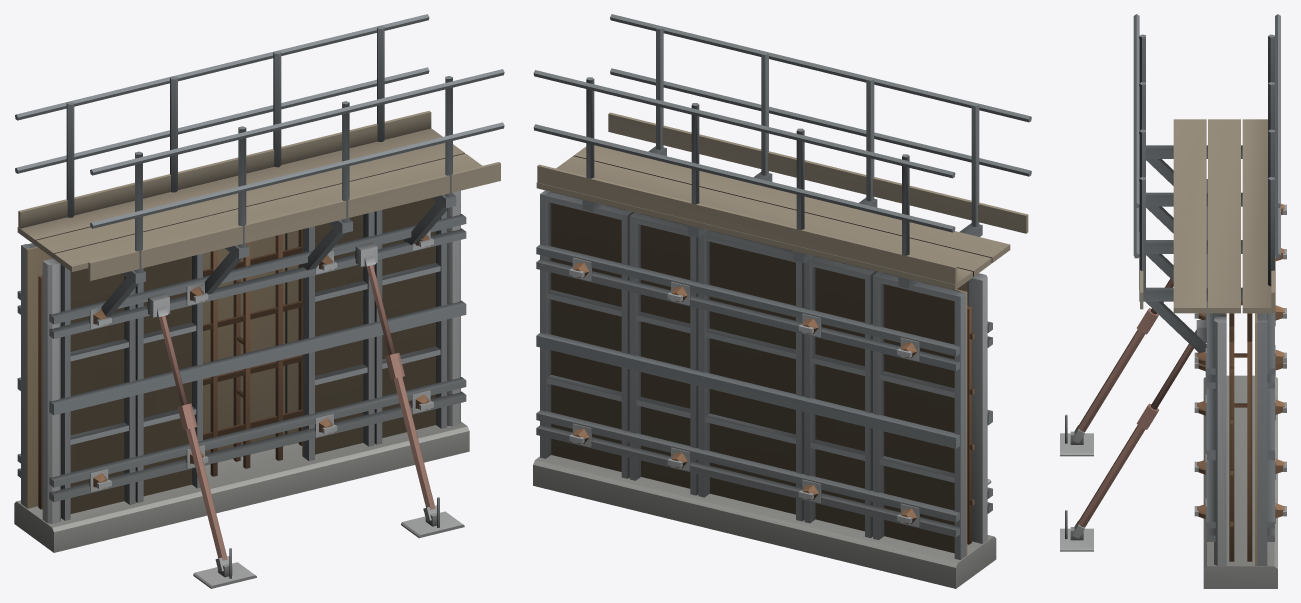
The model's file is formwork.glb.
3 renders of one model, left to right at view 1: azimuth 30°, elevation 25°; view 2: azimuth 150°, elevation 25°; view 3: azimuth 270°, elevation 25°, orthographic. The views are drawn at different scales.
Parts seen in each view (by area): view 1: formwork.001; view 2: formwork.001; view 3: formwork.001.
Boxes of the visible parts, x1,y1,x2,y2 form: formwork.001: [14, 14, 504, 588]; formwork.001: [533, 14, 1031, 588]; formwork.001: [1060, 14, 1286, 588].
Size of the model in its own units: 4 by 3.78 by 2.01.
